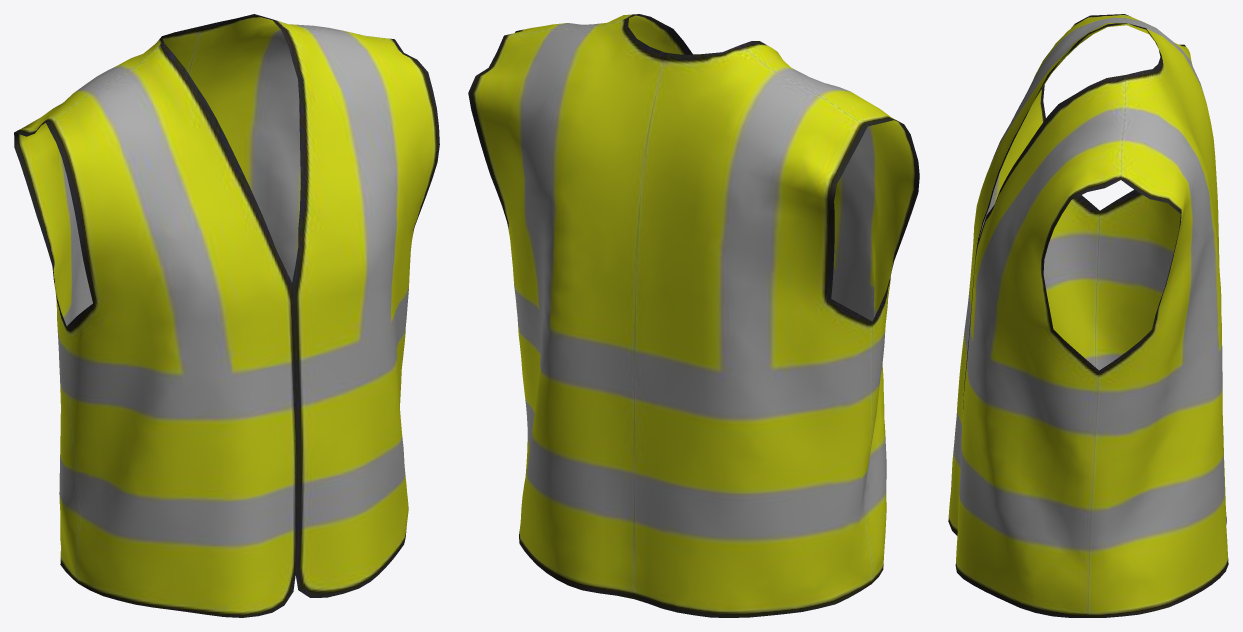
File: hivis.glb
The picture shows the model from 3 angles, left to right: view 1: azimuth 30°, elevation 25°; view 2: azimuth 150°, elevation 25°; view 3: azimuth 270°, elevation 25°; orthographic projection. The views are drawn at different scales.
Parts seen in each view (by area): view 1: high-vis-vest-1-1_0_3; view 2: high-vis-vest-1-1_0_3; view 3: high-vis-vest-1-1_0_3.
Part boxes in pixels (x1=…): high-vis-vest-1-1_0_3: x1=14, y1=14, x2=439, y2=617; high-vis-vest-1-1_0_3: x1=468, y1=14, x2=919, y2=617; high-vis-vest-1-1_0_3: x1=948, y1=14, x2=1228, y2=617.
Bounding box in the file's own units: 0.4538 × 0.6052 × 0.3076.
Materials: 1 (1 with a texture image).
